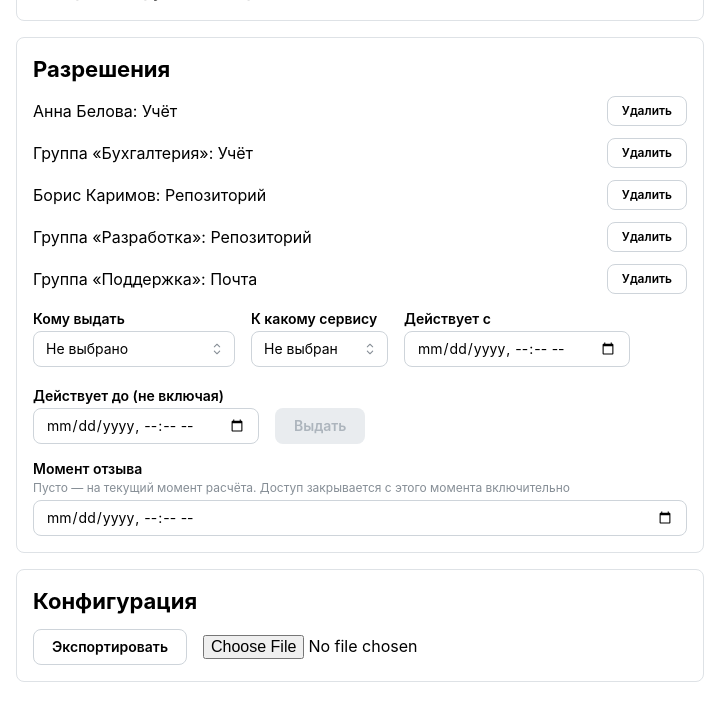
досрочный отзыв › у отозванного разрешения кнопки отзыва больше нет, запись остаётся
(page scrolled)
Select "Вера Лисицына" in the dropdown with test id "permission-subject-select": [134, 349] box [33,331,235,367]
Select "Почта" in the dropdown with test id "permission-service-select": [320, 349] box [251,331,388,367]
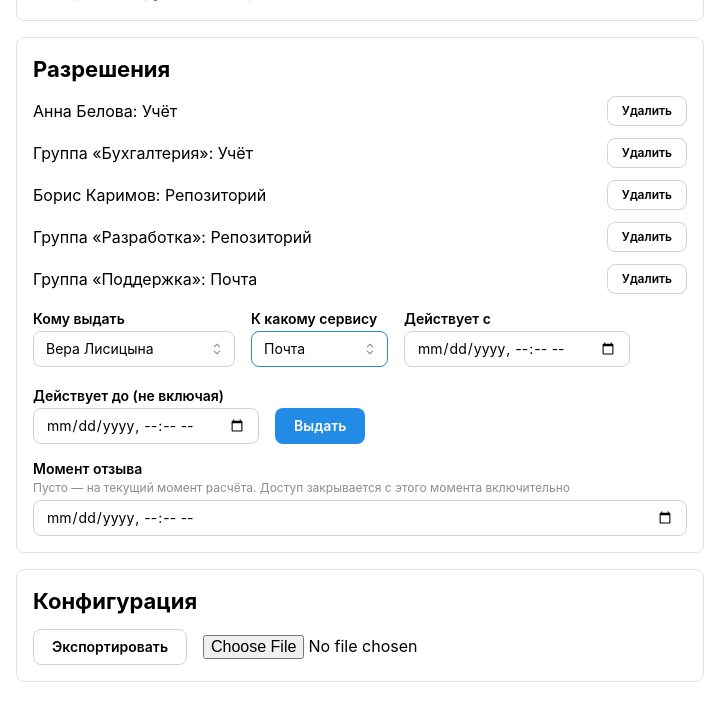
In the field with test id "permission-starts-at": [517, 349] box [404,331,630,367], type "2026-03-02T09:00"
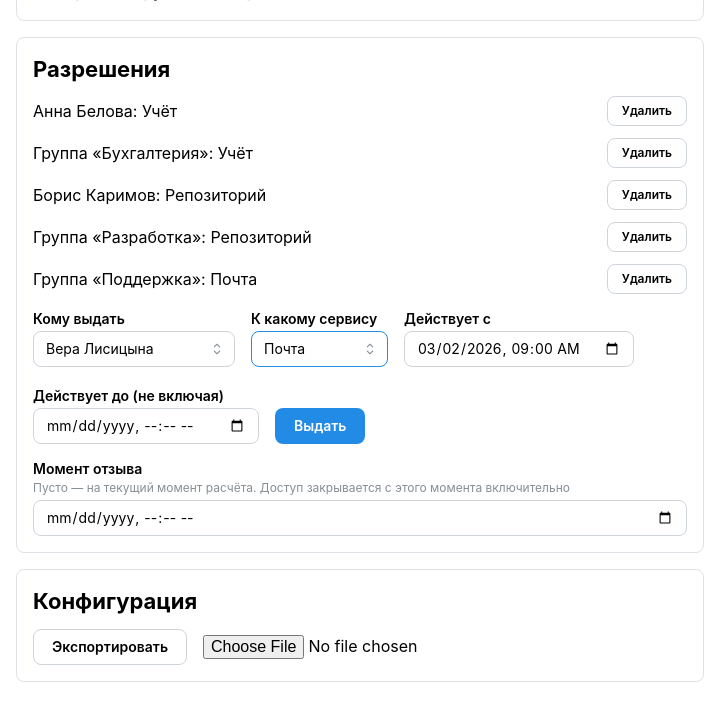
In the field with test id "permission-expires-at": [146, 426] box [33,408,259,444], type "2026-03-16T18:00"
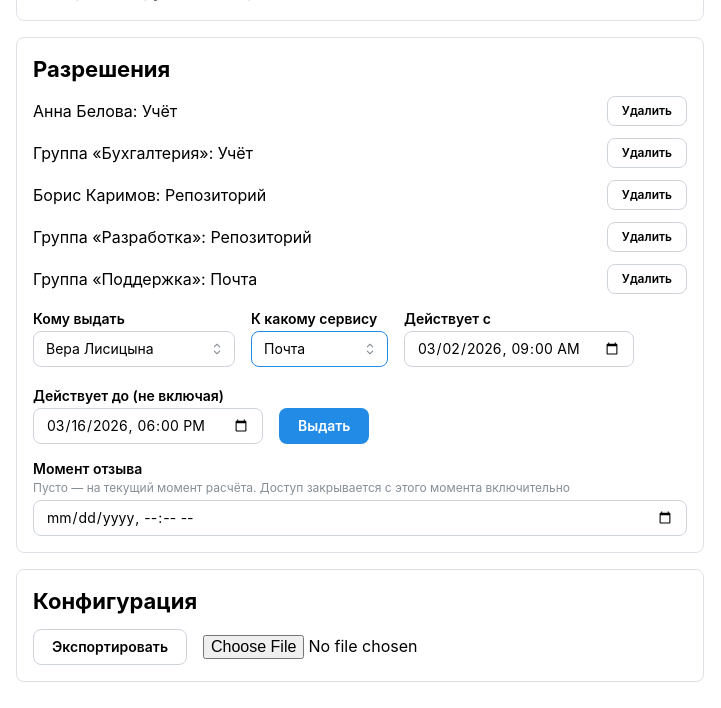
Click the button with test id "permission-add": [324, 426] box [279,408,370,444]
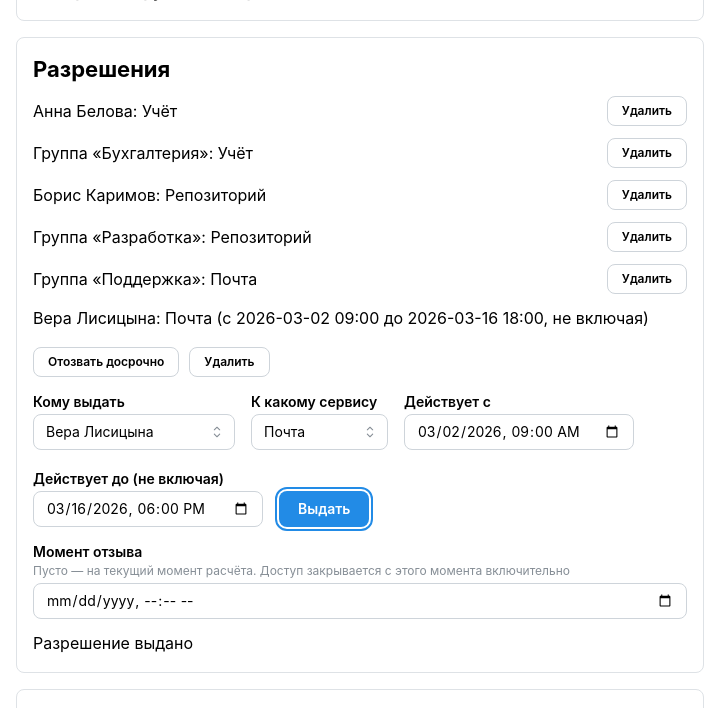
In the field with test id "permission-revoked-at": [360, 601] box [33,583,687,619], type "2026-03-09T00:00"
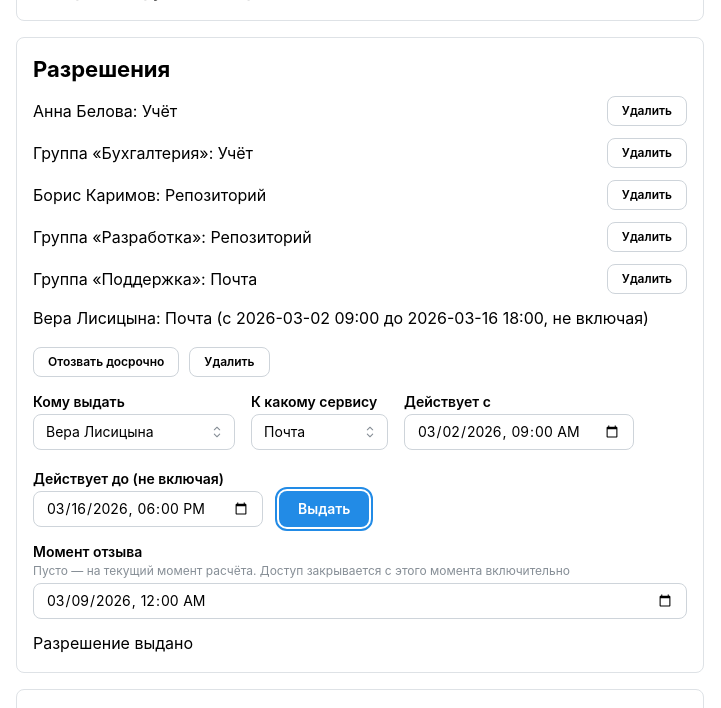
Click the button with test id "permission-revoke-p6": [106, 362] box [33,347,179,377]
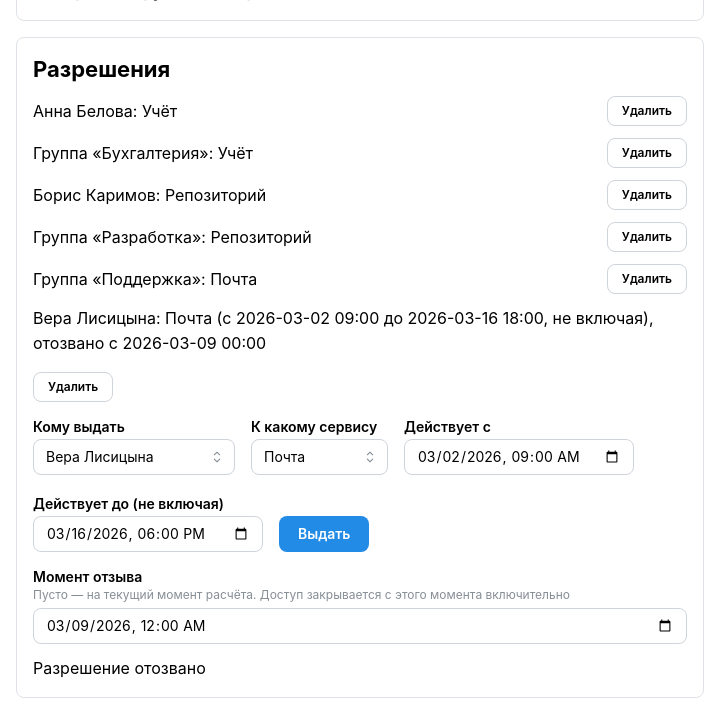
Expected: the element with test id "permission-item-p6" is shown, [33,306,687,402]
Expected: the text with test id "permission-message" reads "Разрешение отозвано", [33,658,206,678]
Expected: the button with test id "permission-revoke-p6" is gone
